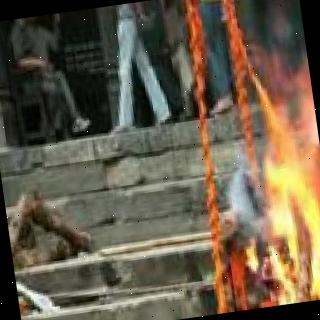fire: (232, 46, 320, 306)
